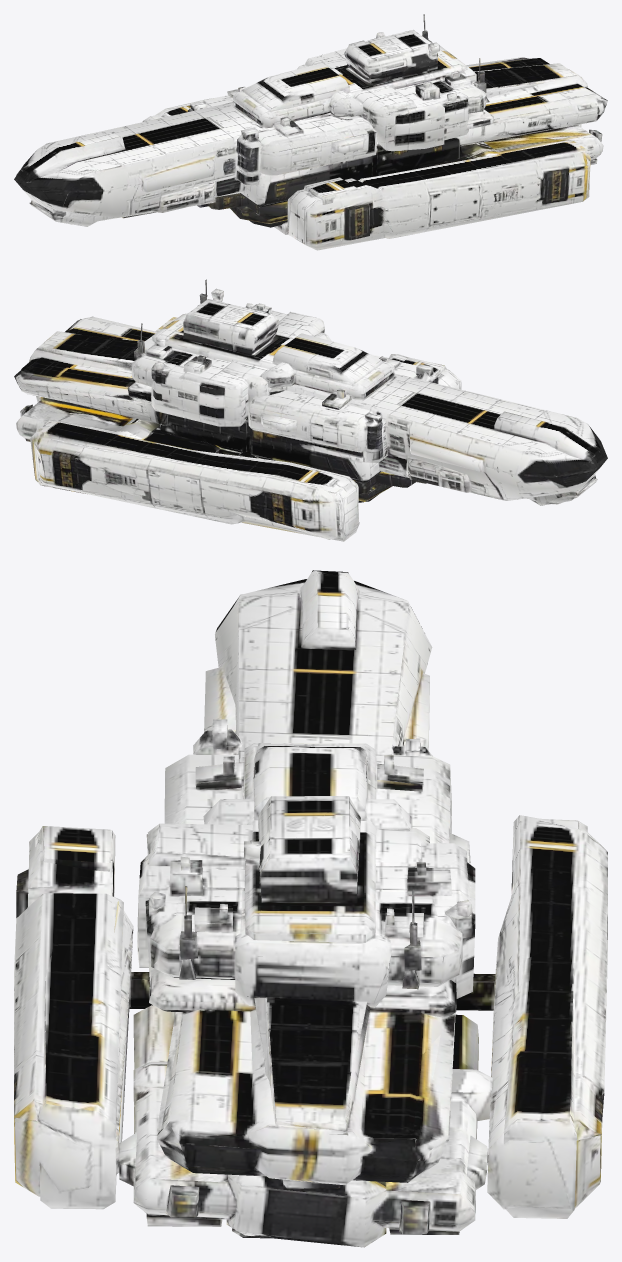
Rendered from atlas.glb.
The picture shows the model from 3 angles, top to bottom: view 1: azimuth 30°, elevation 25°; view 2: azimuth 150°, elevation 25°; view 3: azimuth 270°, elevation 25°; orthographic projection. The views are drawn at different scales.
Parts seen in each view (by area): view 1: mesh_node; view 2: mesh_node; view 3: mesh_node.
Boxes of the visible parts, x1=… form: mesh_node: x1=14, y1=14, x2=607, y2=250; mesh_node: x1=14, y1=279, x2=607, y2=541; mesh_node: x1=14, y1=570, x2=607, y2=1247.
Bounding box in the file's own units: 0.998 × 0.2695 × 0.4853.
Materials: 1 (1 with a texture image).
